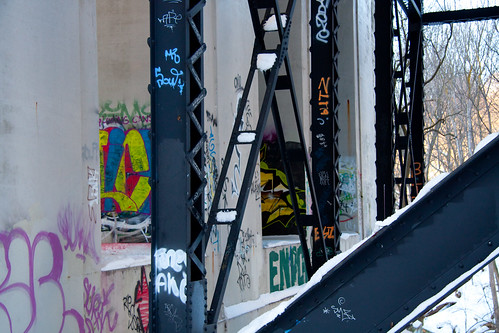graffiti: (1, 224, 120, 333), (90, 115, 162, 237), (255, 131, 305, 231), (145, 239, 193, 302), (262, 243, 312, 289), (148, 49, 198, 95), (149, 11, 185, 32)
